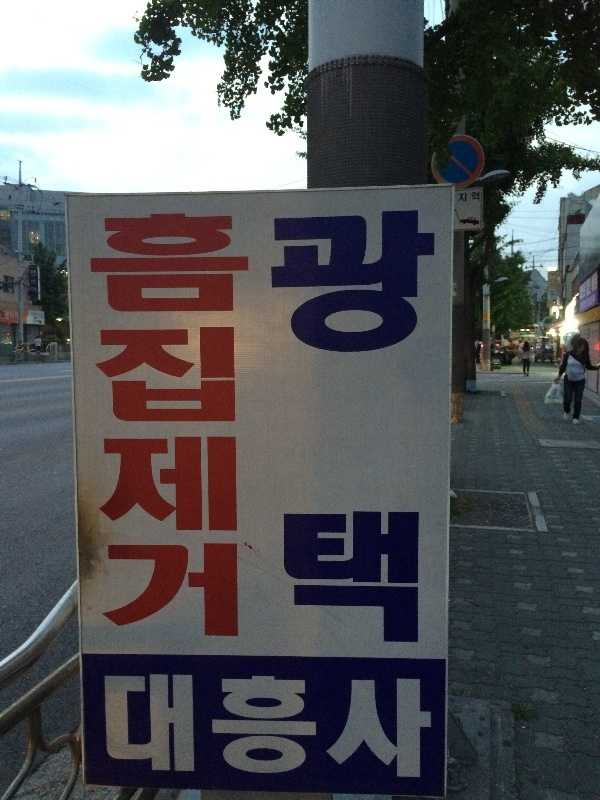text: (273, 208, 288, 651), (289, 208, 304, 651), (305, 208, 320, 651), (321, 208, 336, 651), (337, 208, 352, 651), (353, 208, 368, 651), (369, 208, 384, 651), (385, 208, 400, 651), (401, 208, 416, 651), (417, 208, 432, 651), (97, 208, 112, 648), (113, 208, 128, 648), (129, 208, 144, 648), (145, 208, 160, 648), (161, 208, 176, 648), (177, 208, 192, 648), (193, 208, 208, 648), (209, 208, 224, 648), (225, 208, 240, 648), (241, 208, 252, 648), (88, 208, 96, 648), (433, 208, 438, 651), (417, 670, 433, 789), (113, 670, 128, 789), (129, 670, 144, 789), (145, 670, 160, 789), (161, 670, 176, 789), (177, 670, 192, 789), (193, 670, 208, 789), (209, 670, 224, 789), (225, 670, 240, 789), (241, 670, 256, 789), (257, 670, 272, 789), (273, 670, 288, 789), (289, 670, 304, 789), (305, 670, 320, 789), (321, 670, 336, 789), (337, 670, 352, 789), (353, 670, 368, 789), (369, 670, 384, 789), (385, 670, 400, 789), (401, 670, 416, 789), (269, 208, 272, 651), (103, 670, 112, 789), (579, 268, 592, 301), (580, 292, 592, 315), (465, 190, 481, 206), (593, 268, 599, 301), (5, 310, 16, 320), (458, 190, 464, 206), (593, 292, 597, 315), (17, 310, 19, 320)
